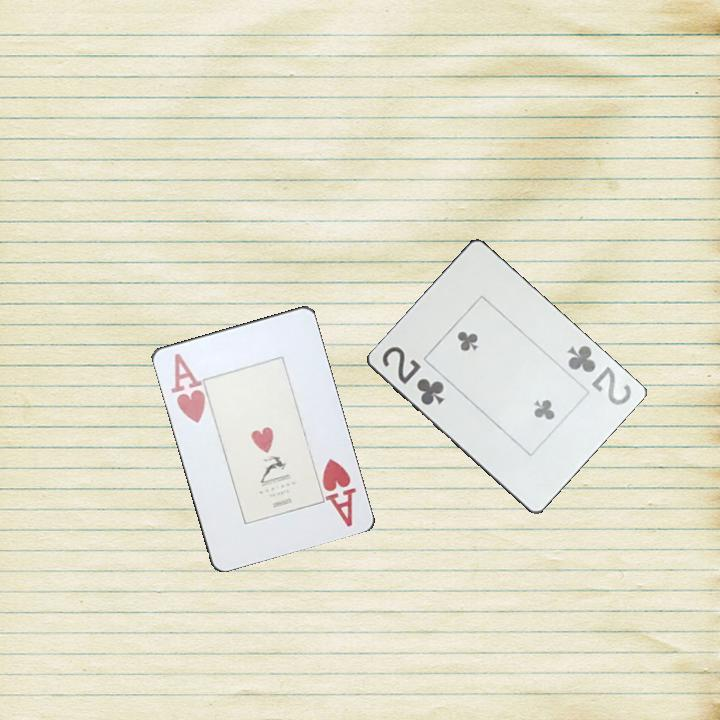2c: (563, 342, 634, 408), (378, 343, 447, 408)
Ah: (167, 349, 208, 427), (318, 455, 359, 530)
